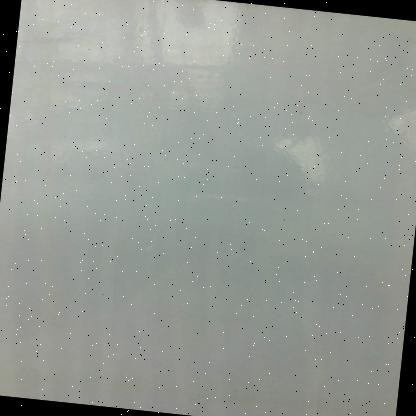Nocrack: (6, 0, 412, 409)
